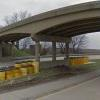Bridge: (4, 7, 100, 51)
